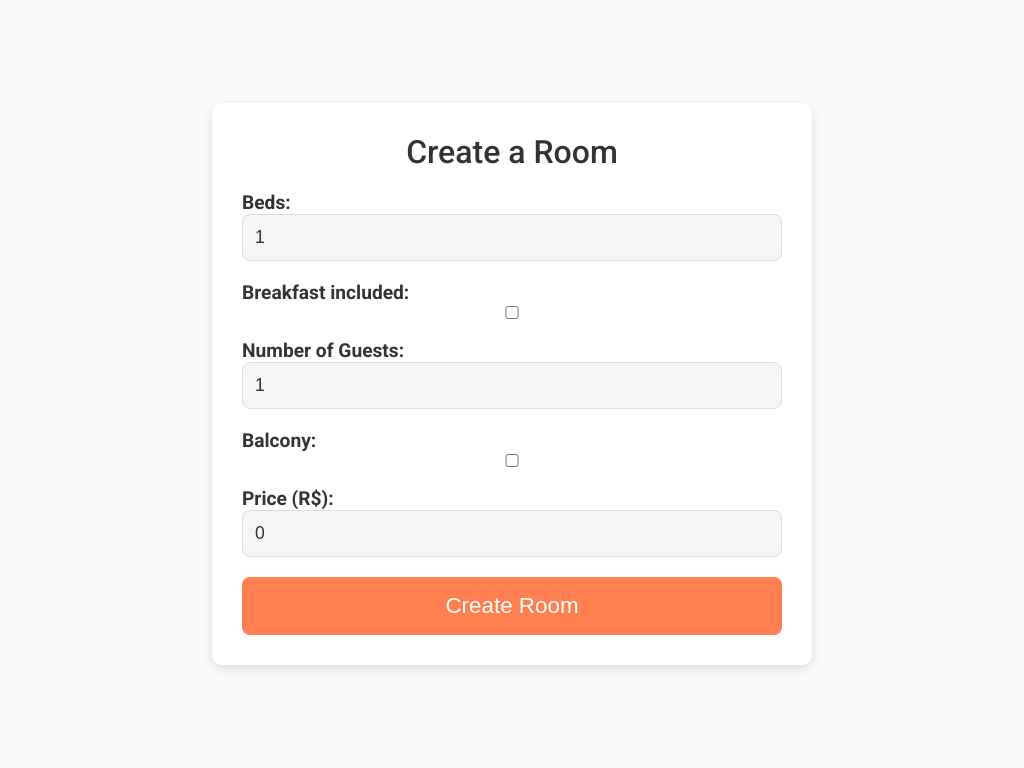
Test: RoomForm Component with Modal › submits the form with success and shows modal
The width and height of the screenshot is (1024, 768).
Preenchendo o formulário
Replace the text in the number field labelled "Beds:" with "2" at (512, 238), box [242,214,782,261]
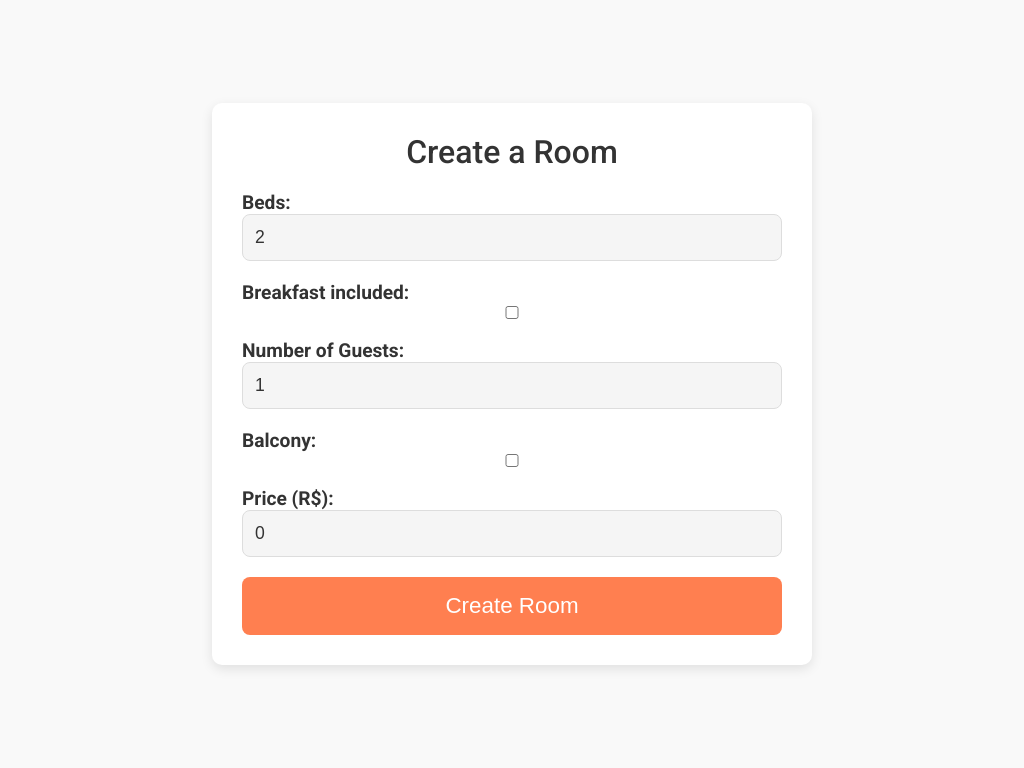
Replace the text in the number field labelled "Number of Guests:" with "3" at (512, 386), box [242,362,782,409]
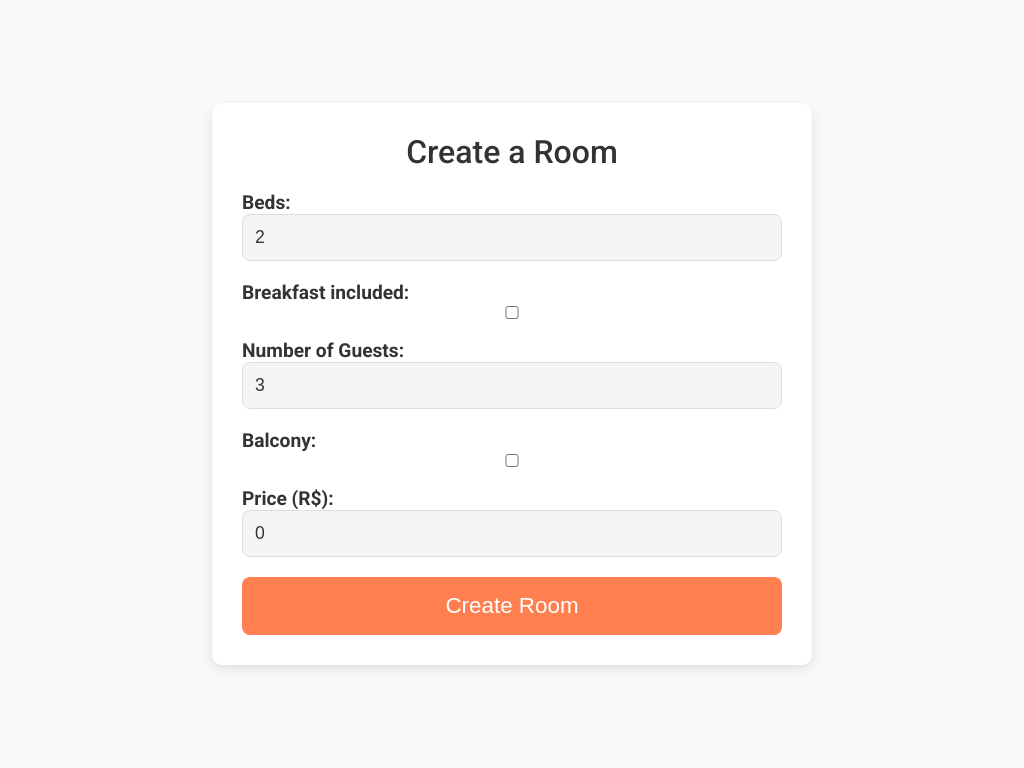
Replace the text in the number field labelled "Price (R$):" with "150.5" at (512, 534), box [242,510,782,557]
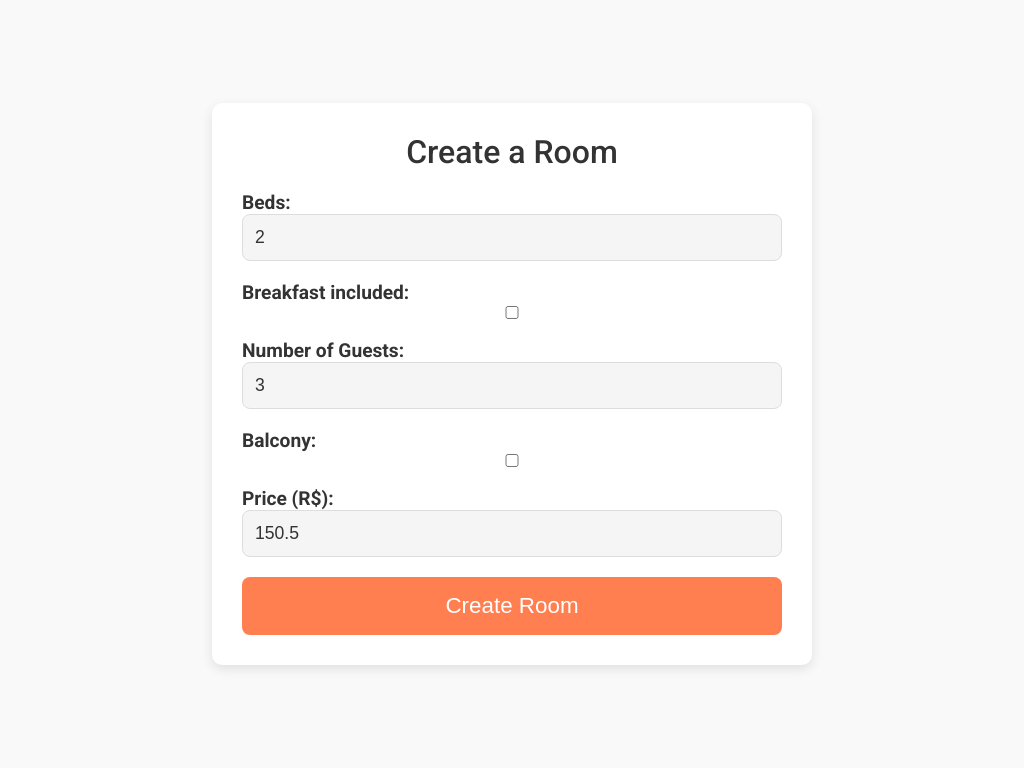
Click the checkbox labelled "Breakfast included:" at (512, 312), box [242,306,782,319]
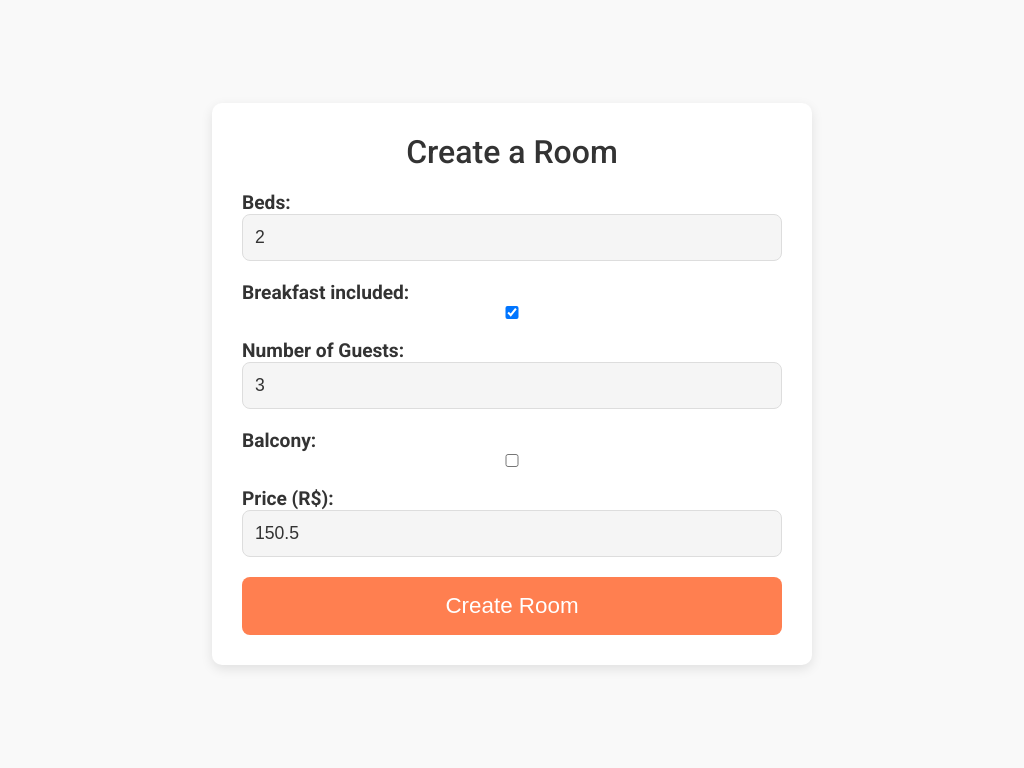
Submetendo o formulário
Click the button "Create Room" at (512, 606), box [242,577,782,635]
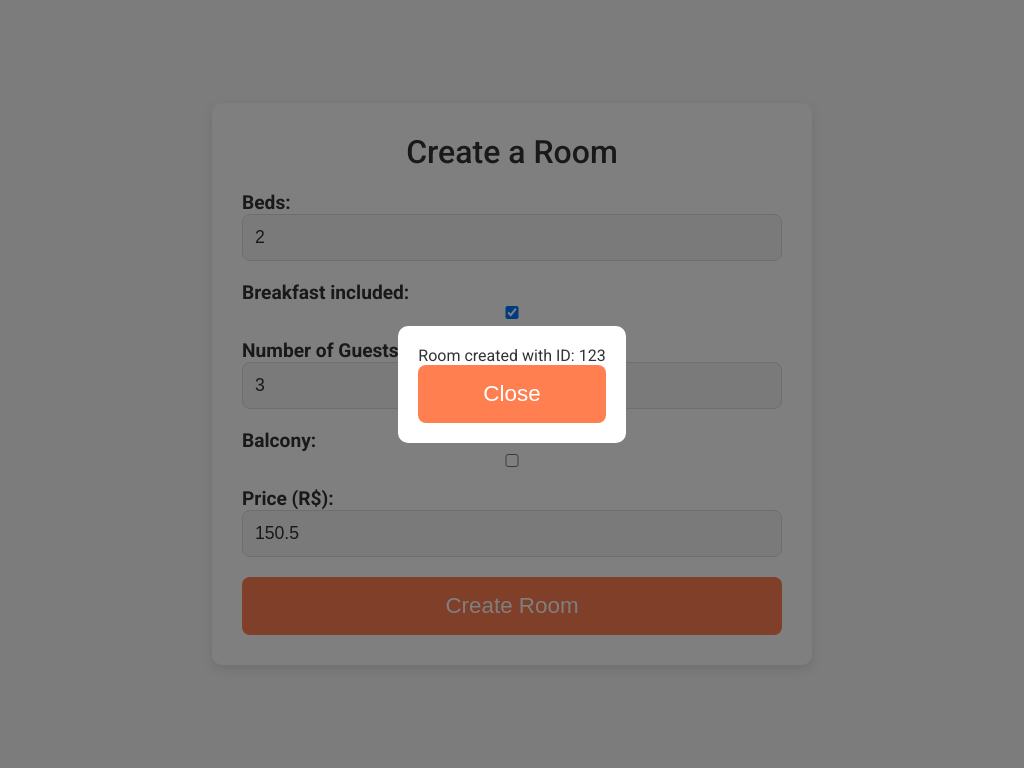
Result: the text "Room created with ID: 123" is shown at [418,346,606,364]
Fechando a modal
Click the button "Close" at (512, 394), box [418,364,606,422]
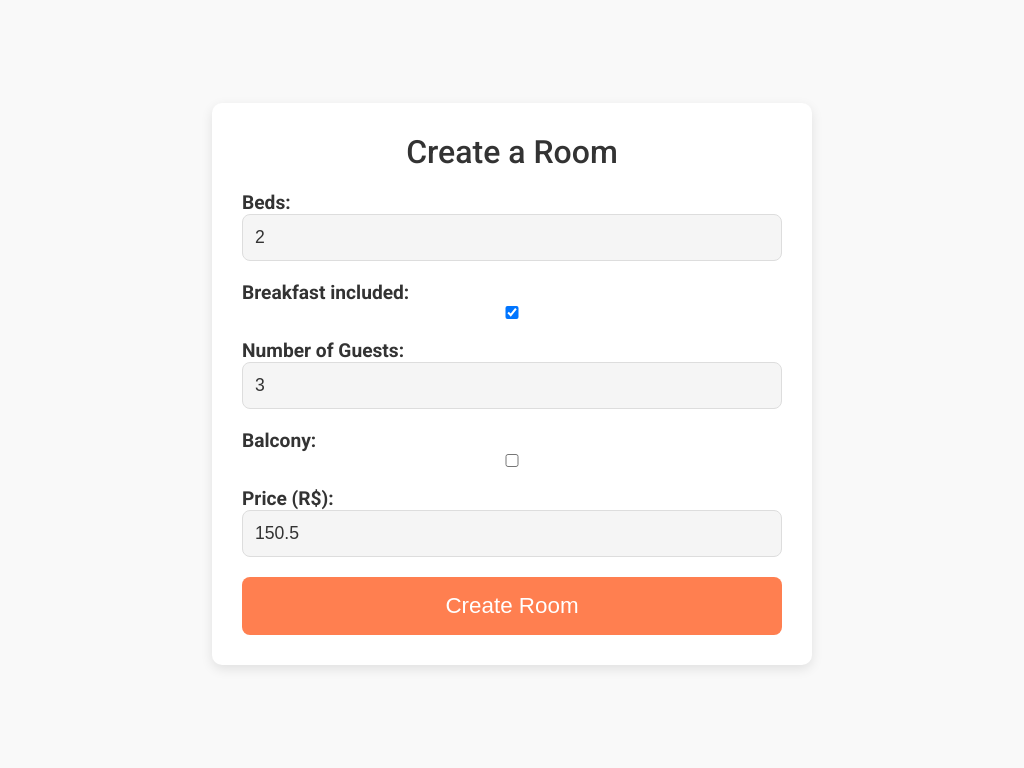
Result: the text "Room created with ID: 123" is gone
